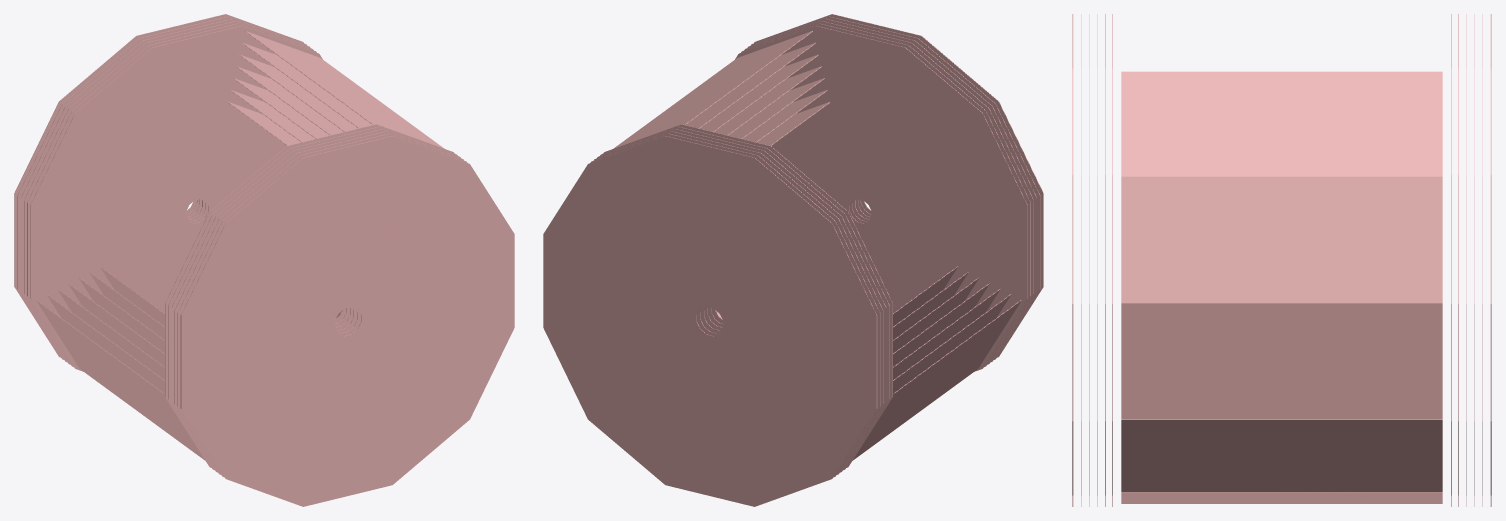
File: Yoke.gltf
3 views of the same model, side by side, from view 1: azimuth 30°, elevation 25°; view 2: azimuth 150°, elevation 25°; view 3: azimuth 270°, elevation 25° (orthographic). The views are drawn at different scales.
Visible parts, largest first — view 1: slice140x12_0, slice10x7_1, slice130x6_5, slice130x6_6, slice140x9_0, slice140x8_0, slice10x8_1, slice10x12_1, slice140x11_0, slice140x10_0, slice10x9_1, slice10x10_1 (+14 smaller); view 2: slice140x12_1, slice10x7_0, slice130x6_5, slice130x6_6, slice140x9_1, slice140x8_1, slice10x8_0, slice10x12_0, slice140x11_1, slice140x10_1, slice10x9_0, slice10x10_0 (+14 smaller); view 3: slice130x6_7, slice130x6_0, slice130x6_6, slice130x6_1, slice130x6_2, slice100x7_0, slice100x7_1, slice140x7_0, slice140x7_1, slice10x8_0, slice10x8_1, slice50x8_0 (+13 smaller).
Boxes of the visible parts, x1=… form: slice140x12_0: x1=181, y1=136, x2=514, y2=506; slice10x7_1: x1=30, y1=26, x2=322, y2=371; slice130x6_5: x1=36, y1=300, x2=205, y2=460; slice130x6_6: x1=246, y1=31, x2=443, y2=148; slice140x9_0: x1=171, y1=129, x2=460, y2=472; slice140x8_0: x1=168, y1=127, x2=457, y2=470; slice10x8_1: x1=27, y1=23, x2=316, y2=366; slice10x12_1: x1=14, y1=14, x2=303, y2=357; slice140x11_0: x1=178, y1=134, x2=467, y2=476; slice140x10_0: x1=175, y1=131, x2=463, y2=474; slice10x9_1: x1=24, y1=21, x2=313, y2=364; slice10x10_1: x1=21, y1=19, x2=310, y2=362; slice140x12_1: x1=543, y1=136, x2=876, y2=506; slice10x7_0: x1=735, y1=26, x2=1027, y2=371; slice130x6_5: x1=852, y1=300, x2=1021, y2=460; slice130x6_6: x1=614, y1=31, x2=811, y2=148; slice140x9_1: x1=597, y1=129, x2=886, y2=472; slice140x8_1: x1=600, y1=127, x2=889, y2=470; slice10x8_0: x1=741, y1=23, x2=1030, y2=366; slice10x12_0: x1=754, y1=14, x2=1043, y2=357; slice140x11_1: x1=590, y1=134, x2=879, y2=476; slice140x10_1: x1=594, y1=131, x2=882, y2=474; slice10x9_0: x1=744, y1=21, x2=1033, y2=364; slice10x10_0: x1=747, y1=19, x2=1036, y2=362; slice130x6_7: x1=1121, y1=176, x2=1442, y2=302; slice130x6_0: x1=1121, y1=304, x2=1442, y2=418; slice130x6_6: x1=1121, y1=71, x2=1442, y2=175; slice130x6_1: x1=1121, y1=419, x2=1442, y2=492; slice130x6_2: x1=1121, y1=492, x2=1442, y2=503; slice100x7_0: x1=1112, y1=14, x2=1112, y2=506; slice100x7_1: x1=1451, y1=14, x2=1451, y2=506; slice140x7_0: x1=1112, y1=14, x2=1112, y2=506; slice140x7_1: x1=1451, y1=14, x2=1451, y2=506; slice10x8_0: x1=1105, y1=14, x2=1105, y2=506; slice10x8_1: x1=1458, y1=14, x2=1458, y2=506; slice50x8_0: x1=1105, y1=14, x2=1105, y2=506.
Size of the model in its own units: 137 by 137 by 118.
